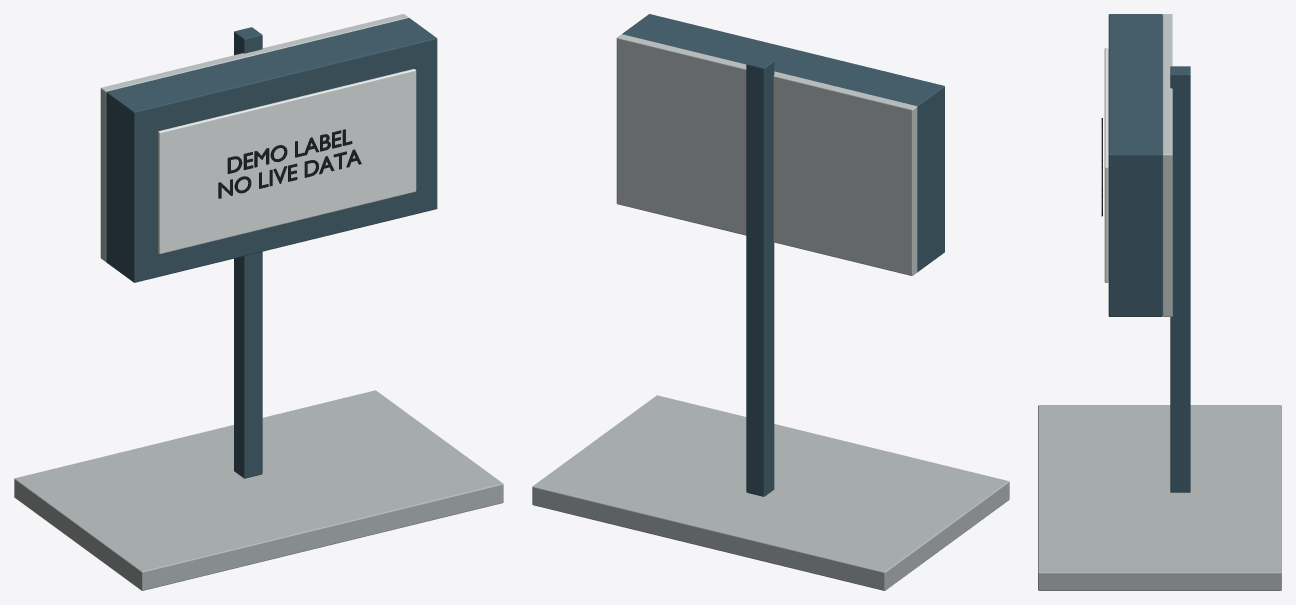
File: formatted_label_display.glb
The picture shows the model from 3 angles, left to right: view 1: azimuth 30°, elevation 25°; view 2: azimuth 150°, elevation 25°; view 3: azimuth 270°, elevation 25°; orthographic projection. The views are drawn at different scales.
Visible parts, largest first — view 1: LABEL_DISPLAY_base, LABEL_DISPLAY_enclosure, LABEL_DISPLAY_screen, LABEL_DISPLAY_mast, LABEL_DISPLAY_backboard, LABEL_DISPLAY_static_preview; view 2: LABEL_DISPLAY_base, LABEL_DISPLAY_backboard, LABEL_DISPLAY_enclosure, LABEL_DISPLAY_mast; view 3: LABEL_DISPLAY_base, LABEL_DISPLAY_enclosure, LABEL_DISPLAY_mast, LABEL_DISPLAY_backboard, LABEL_DISPLAY_screen.
Boxes of the visible parts, x1,y1,x2,y2 form: LABEL_DISPLAY_base: (14, 390, 503, 590); LABEL_DISPLAY_enclosure: (106, 18, 437, 282); LABEL_DISPLAY_screen: (158, 69, 416, 253); LABEL_DISPLAY_mast: (234, 27, 262, 478); LABEL_DISPLAY_backboard: (100, 14, 408, 261); LABEL_DISPLAY_static_preview: (218, 129, 361, 198); LABEL_DISPLAY_base: (532, 395, 1009, 590); LABEL_DISPLAY_backboard: (616, 34, 917, 275); LABEL_DISPLAY_enclosure: (622, 14, 944, 272); LABEL_DISPLAY_mast: (746, 56, 774, 496); LABEL_DISPLAY_base: (1038, 405, 1281, 590); LABEL_DISPLAY_enclosure: (1108, 14, 1162, 316); LABEL_DISPLAY_mast: (1170, 66, 1190, 492); LABEL_DISPLAY_backboard: (1162, 14, 1172, 316); LABEL_DISPLAY_screen: (1104, 48, 1108, 282).
Bounding box in the file's own units: 1.55 × 1.88 × 0.95.
